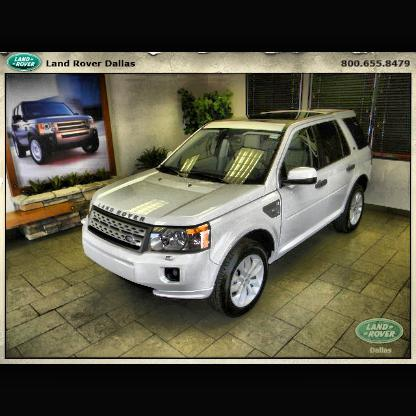Land Rover LR2 SUV 2012: (81, 109, 375, 318)
